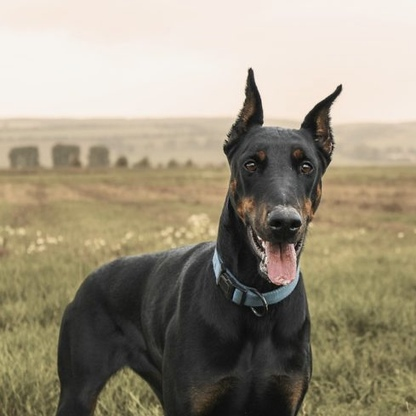doberman: (51, 69, 346, 416)
